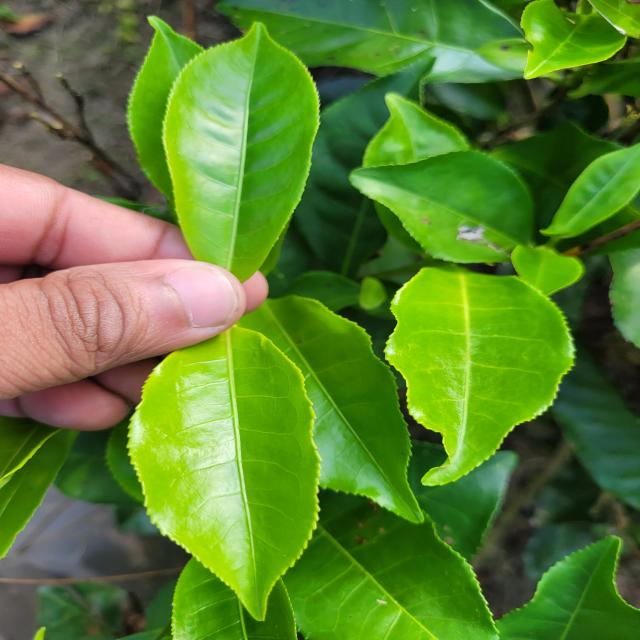Category B 2-4 days: (108, 297, 352, 630)
